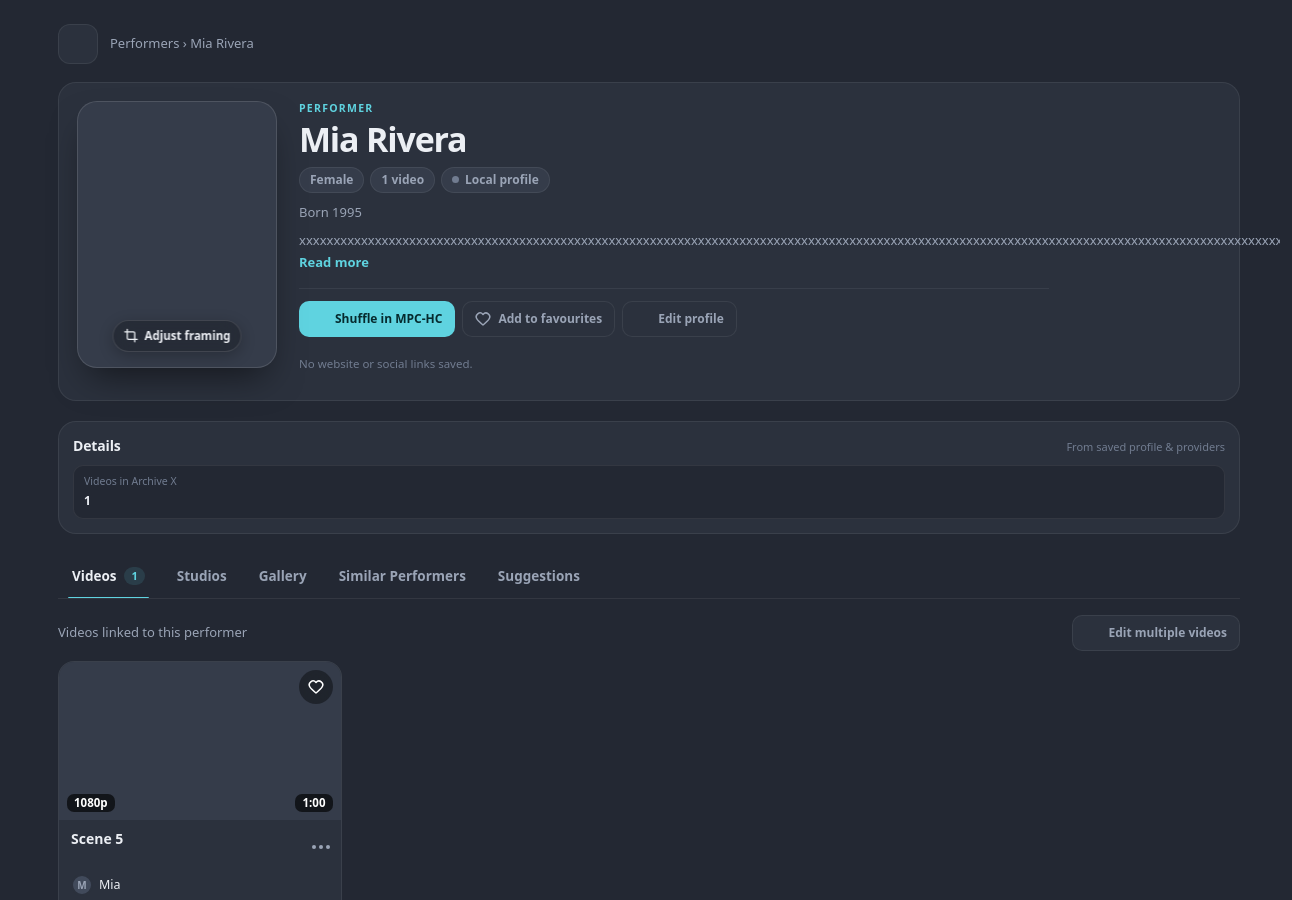
Test: PerformerPage › shows the profile and her videos, and collapses a long bio
The image size is (1292, 900).
Expected: the heading "Mia Rivera" is shown, [299,116,466,162]
Expected: the text "1 video" is shown, [370,167,435,193]
Click the button "Read more". click: click(334, 262)
box: [299,252,369,273]
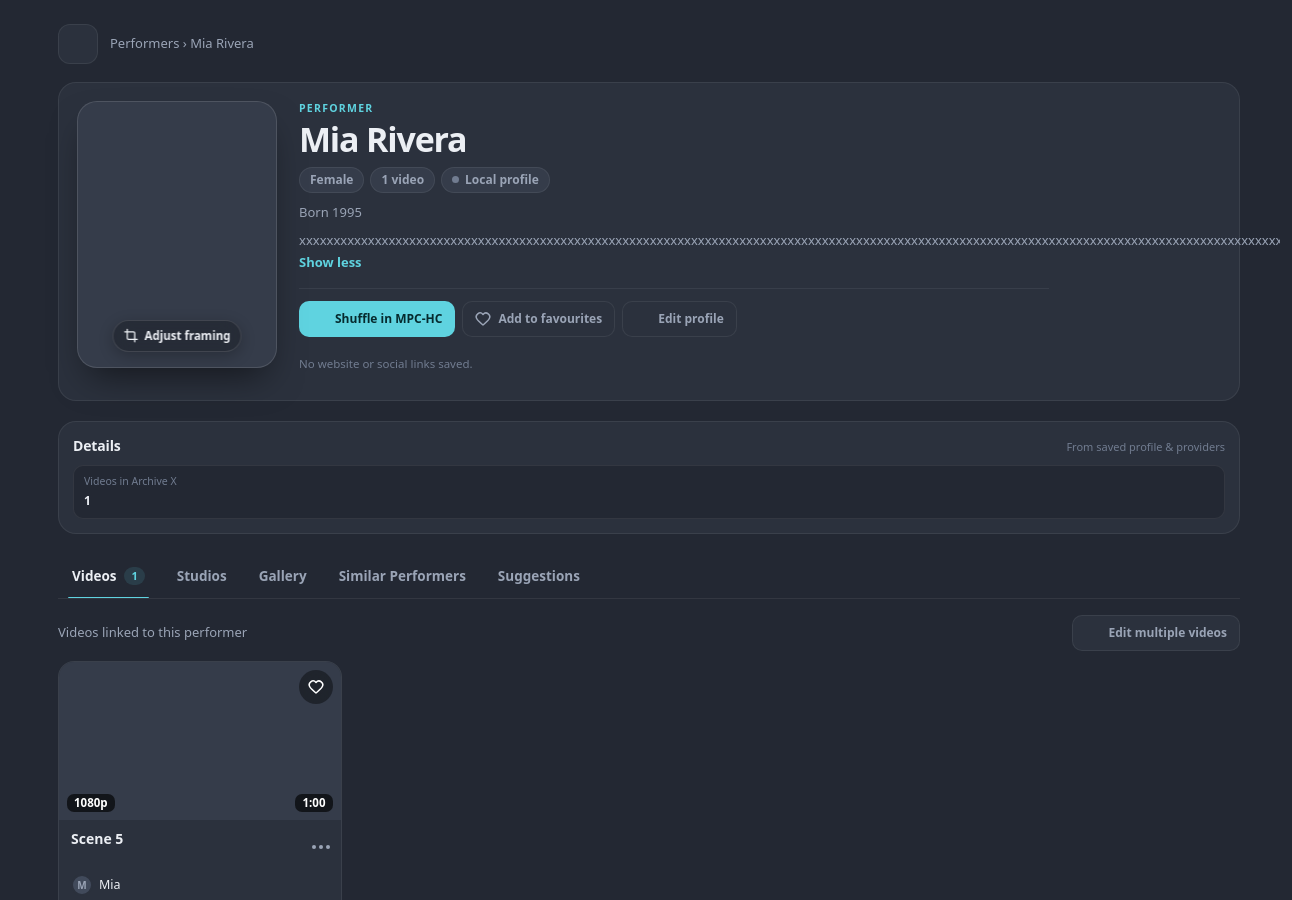
Now the button "Show less" is shown, box [299,252,362,273]
